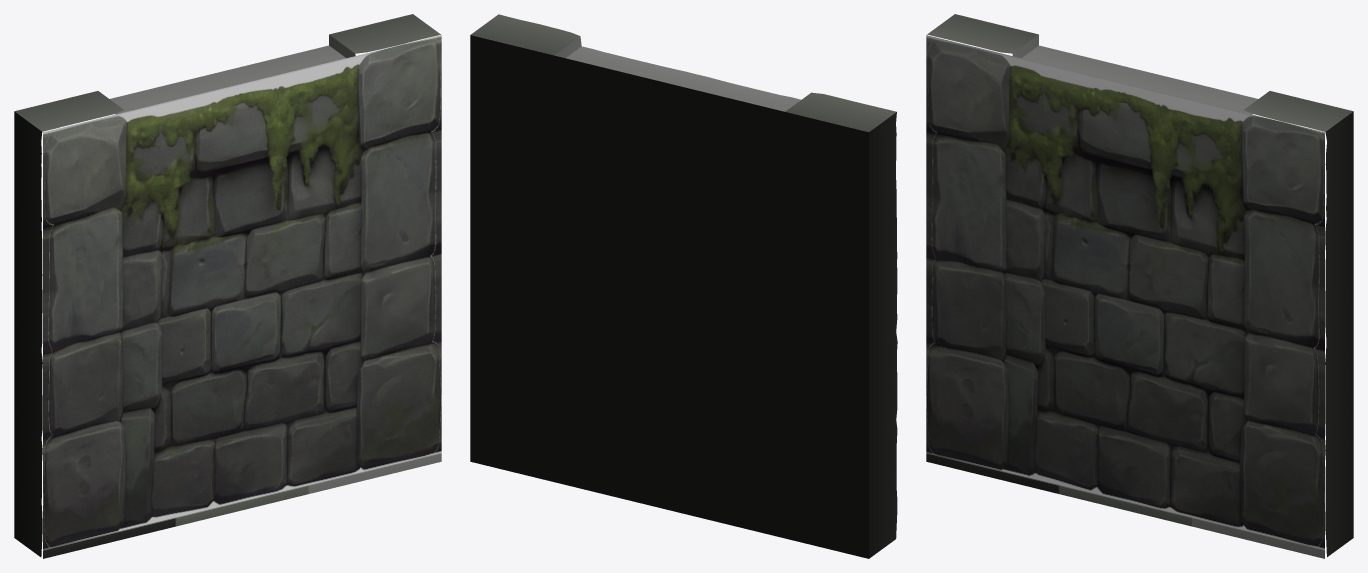
File: wall_moss2.glb
3 renders of one model, left to right at view 1: azimuth 30°, elevation 25°; view 2: azimuth 150°, elevation 25°; view 3: azimuth 330°, elevation 25°, orthographic.
Parts seen in each view (by area): view 1: wall_moss2; view 2: wall_moss2; view 3: wall_moss2.
Boxes of the visible parts, left/top/right/bottom form: wall_moss2: left=14, top=14, right=441, bottom=558; wall_moss2: left=470, top=14, right=897, bottom=558; wall_moss2: left=926, top=14, right=1353, bottom=558.
Size of the model in its own units: 2 by 2.05 by 0.25.
Materials: 1 (1 with a texture image).
